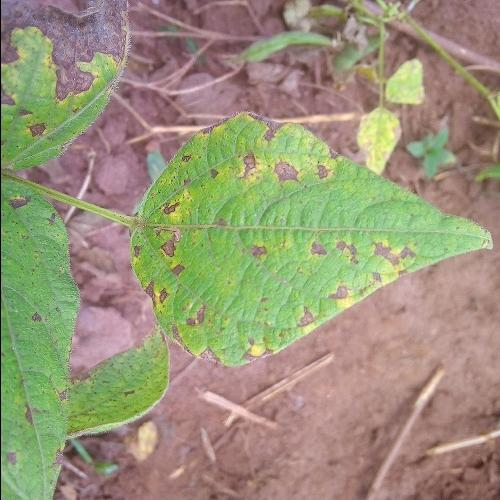hawar: (160, 108, 388, 372)
